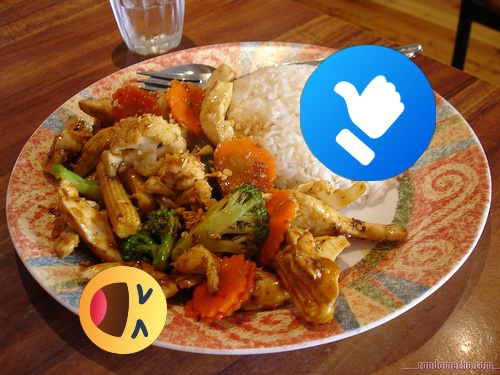haha: (79, 266, 167, 354)
like: (300, 45, 436, 181)
